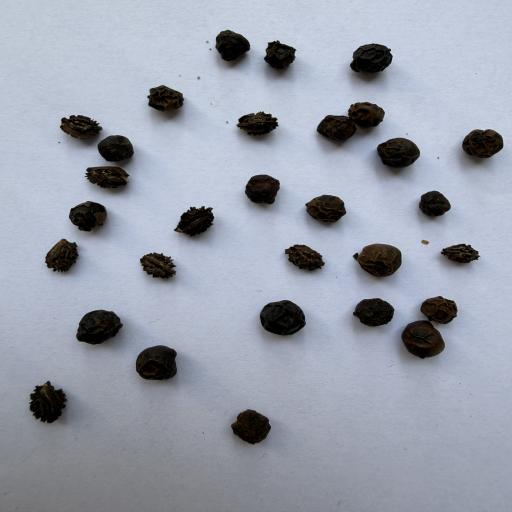Black_pepper: (404, 184, 472, 219), (400, 319, 449, 360), (222, 406, 274, 444), (77, 308, 127, 346), (131, 346, 182, 382), (259, 298, 307, 336), (355, 242, 402, 278), (66, 200, 113, 232), (347, 297, 396, 327), (304, 193, 348, 226), (377, 137, 421, 170), (461, 128, 507, 158), (350, 42, 392, 74), (242, 174, 281, 206), (214, 29, 252, 60), (144, 85, 186, 113), (418, 292, 456, 322), (315, 115, 355, 142), (348, 101, 387, 127), (263, 40, 296, 70), (99, 135, 135, 162)
papaya_seed: (15, 371, 89, 435), (159, 194, 234, 250), (126, 250, 194, 298), (32, 226, 93, 279), (268, 237, 334, 277), (228, 108, 296, 142), (58, 102, 106, 148), (431, 241, 491, 269), (75, 166, 134, 194)
